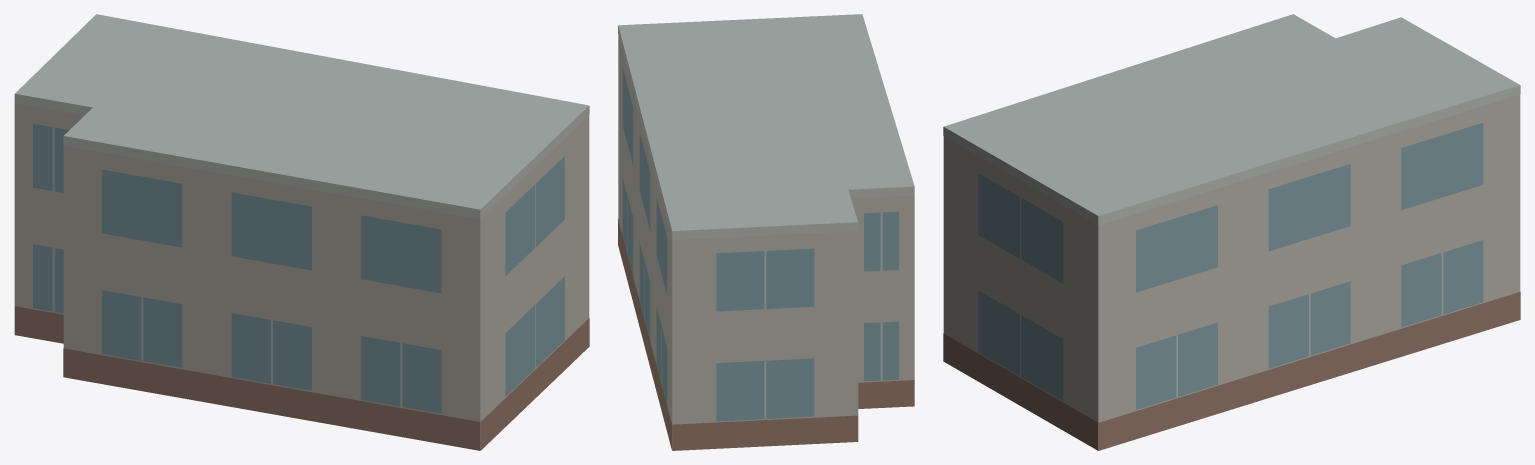
The model's file is survey-upis-32779670.glb.
The picture shows the model from 3 angles, left to right: view 1: azimuth 30°, elevation 25°; view 2: azimuth 150°, elevation 25°; view 3: azimuth 270°, elevation 25°; orthographic projection. The views are drawn at different scales.
Visible parts, largest first — view 1: survey-upis-32779670.tmp; view 2: survey-upis-32779670.tmp; view 3: survey-upis-32779670.tmp.
Boxes of the visible parts, x1,y1,x2,y2 form: survey-upis-32779670.tmp: (14, 14, 589, 450); survey-upis-32779670.tmp: (618, 14, 914, 450); survey-upis-32779670.tmp: (943, 14, 1520, 450).
Size of the model in its own units: 11.27 by 6.1 by 13.6.
